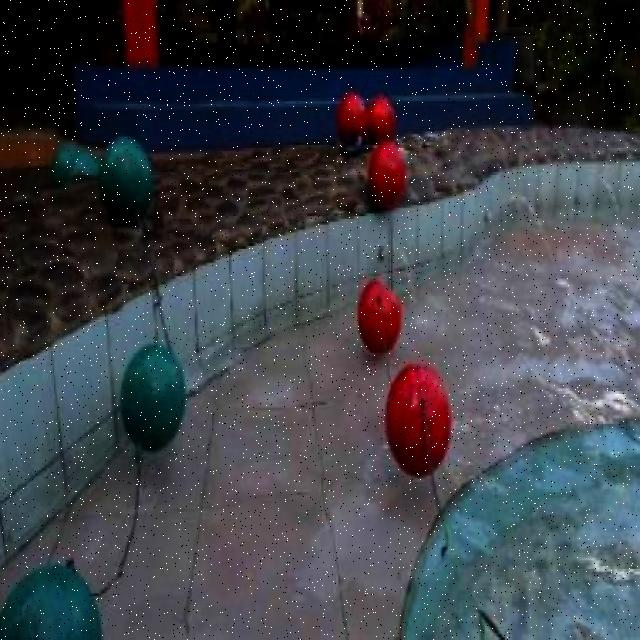buoy: (0, 566, 104, 640), (383, 362, 450, 474), (119, 341, 185, 453), (98, 133, 152, 223), (356, 278, 402, 352), (367, 139, 405, 205), (366, 94, 396, 141), (336, 92, 365, 138)
